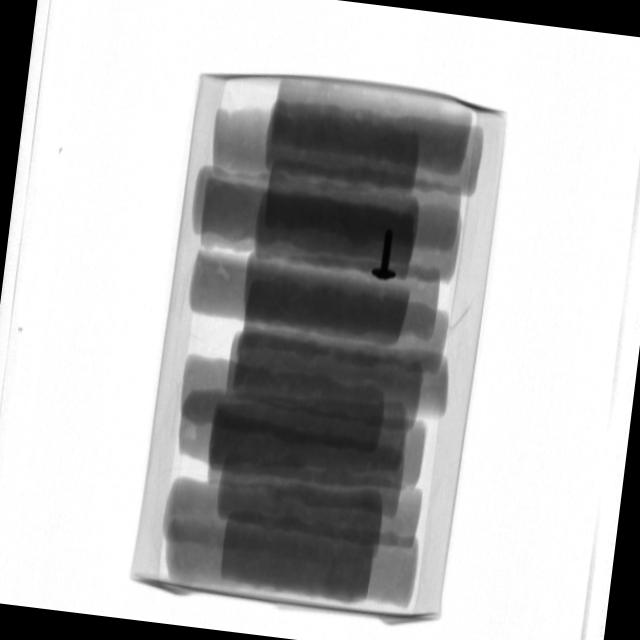ym: (372, 231, 402, 283)
